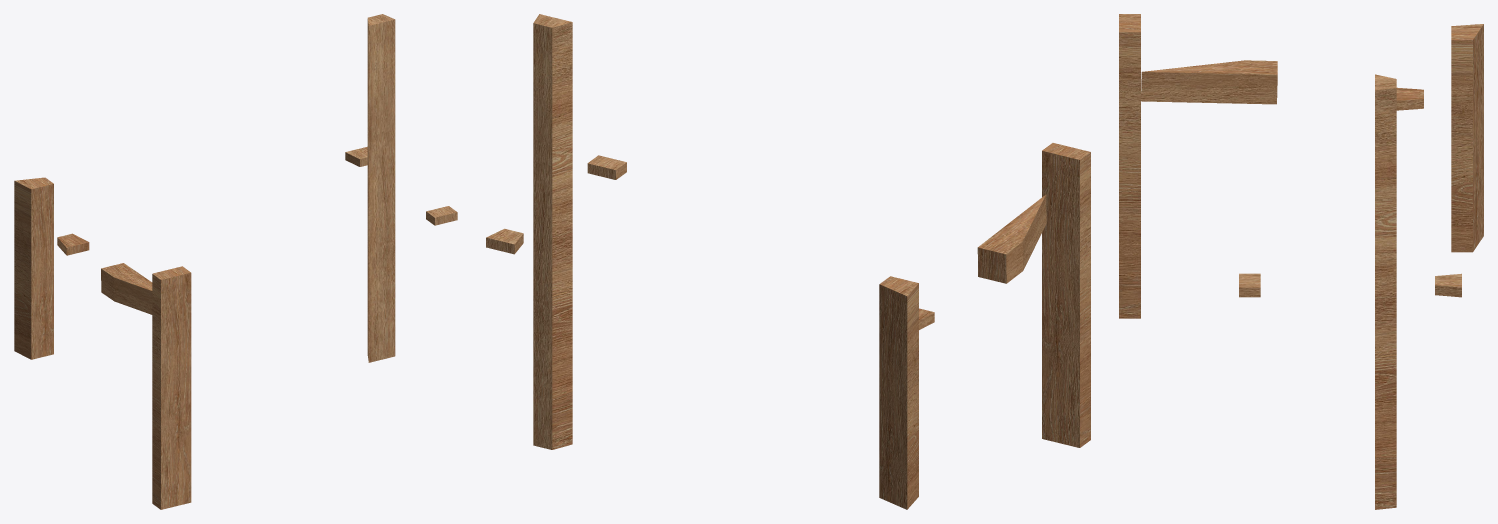
The model's file is 19665_deepcad.glb.
The picture shows the model from 3 angles, left to right: view 1: azimuth 30°, elevation 25°; view 2: azimuth 150°, elevation 25°; view 3: azimuth 270°, elevation 25°; orthographic projection. The views are drawn at different scales.
Visible parts, largest first — view 1: test_cmd_19665_pred; view 2: test_cmd_19665_pred; view 3: test_cmd_19665_pred.
Boxes of the visible parts, x1,y1,x2,y2 form: test_cmd_19665_pred: (14,14,457,509); test_cmd_19665_pred: (486,14,1090,509); test_cmd_19665_pred: (1119,14,1483,509).
Bounding box in the file's own units: 1 × 0.9341 × 0.7363.
1 material, 1 textured.
